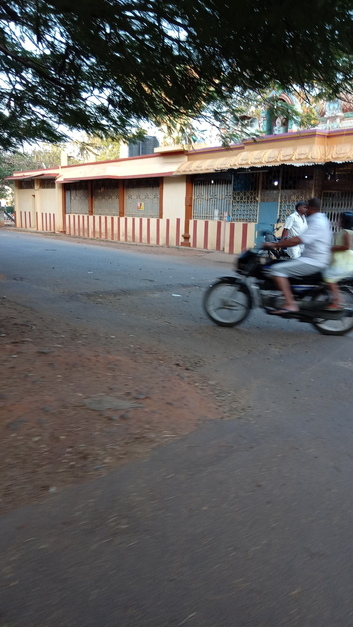bump: (10, 277, 232, 310)
